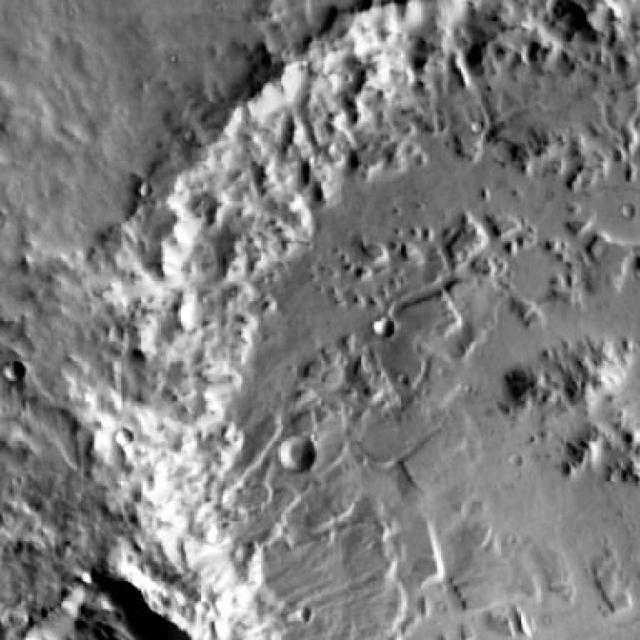crater: (84, 0, 640, 640), (265, 434, 303, 472), (359, 316, 381, 338), (242, 288, 260, 304), (4, 358, 15, 379)
